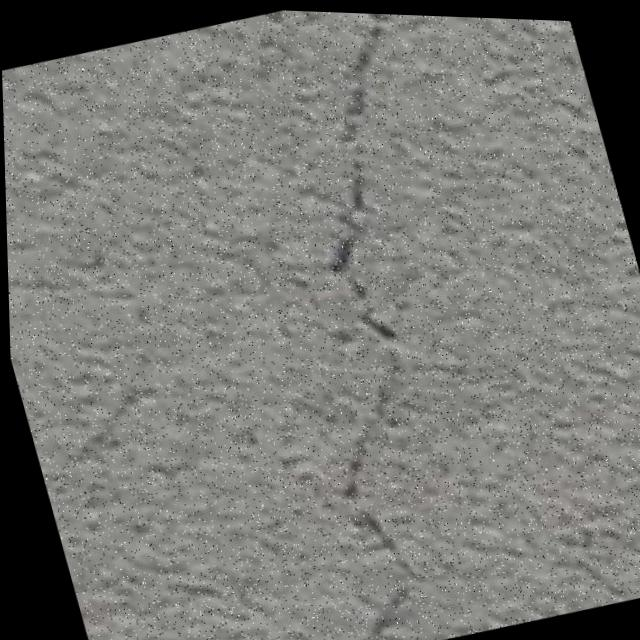Crack: (157, 5, 564, 640)
